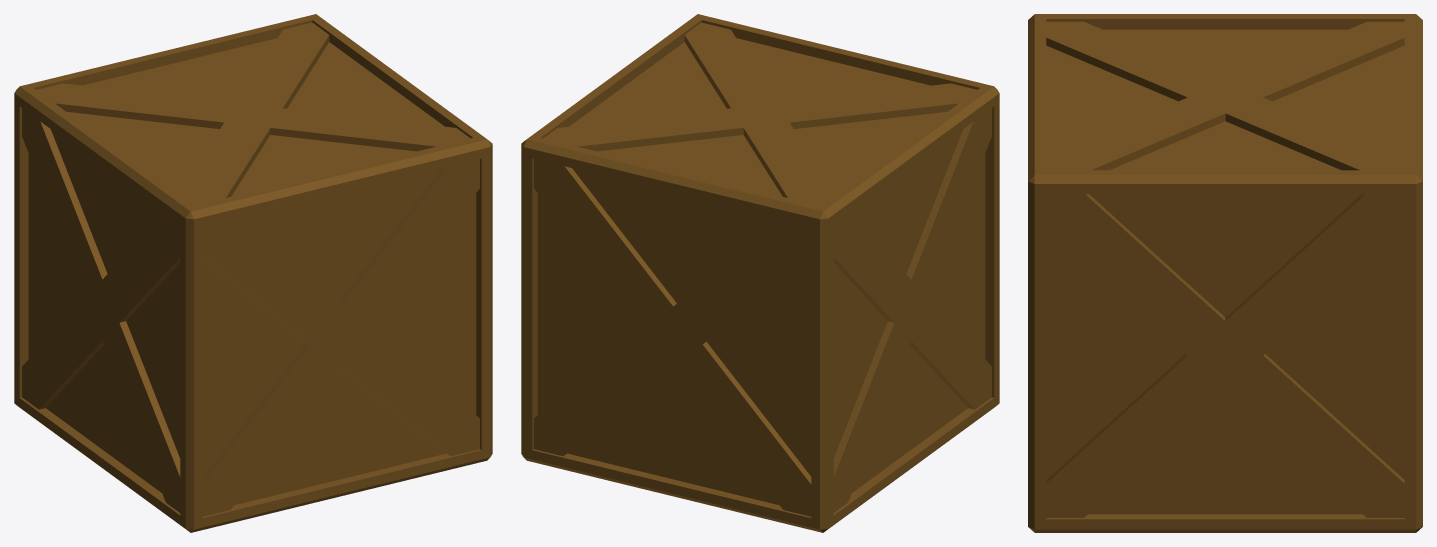
The model's file is Crate.fbx.
The picture shows the model from 3 angles, left to right: view 1: azimuth 30°, elevation 25°; view 2: azimuth 150°, elevation 25°; view 3: azimuth 270°, elevation 25°; orthographic projection. The views are drawn at different scales.
Parts seen in each view (by area): view 1: Cube.002; view 2: Cube.002; view 3: Cube.002.
Boxes of the visible parts, x1,y1,x2,y2 form: Cube.002: (14, 14, 492, 532); Cube.002: (521, 14, 999, 532); Cube.002: (1028, 14, 1422, 532).
Size of the model in its own units: 149 by 149 by 149.
